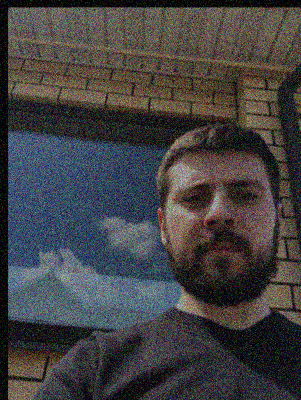without_mask: (171, 171, 277, 306)
